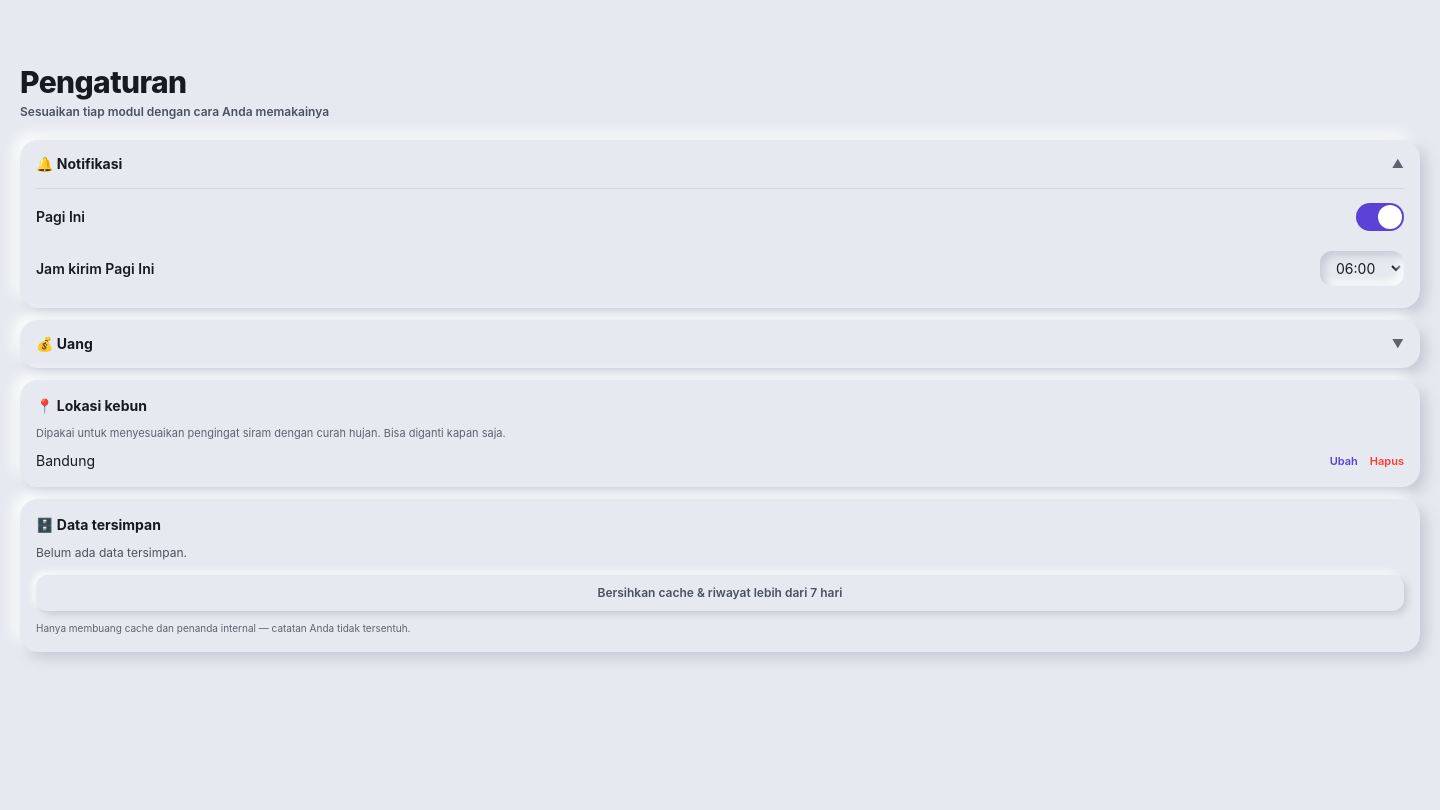
Test case: Pengaturan › menampilkan lokasi kebun dan membuka ulang pemilih lewat "Ubah"
Expected: the text "Bandung" is shown, [36,451,95,471]
Click the button "Ubah" at (1344, 461), box [1330,453,1358,469]
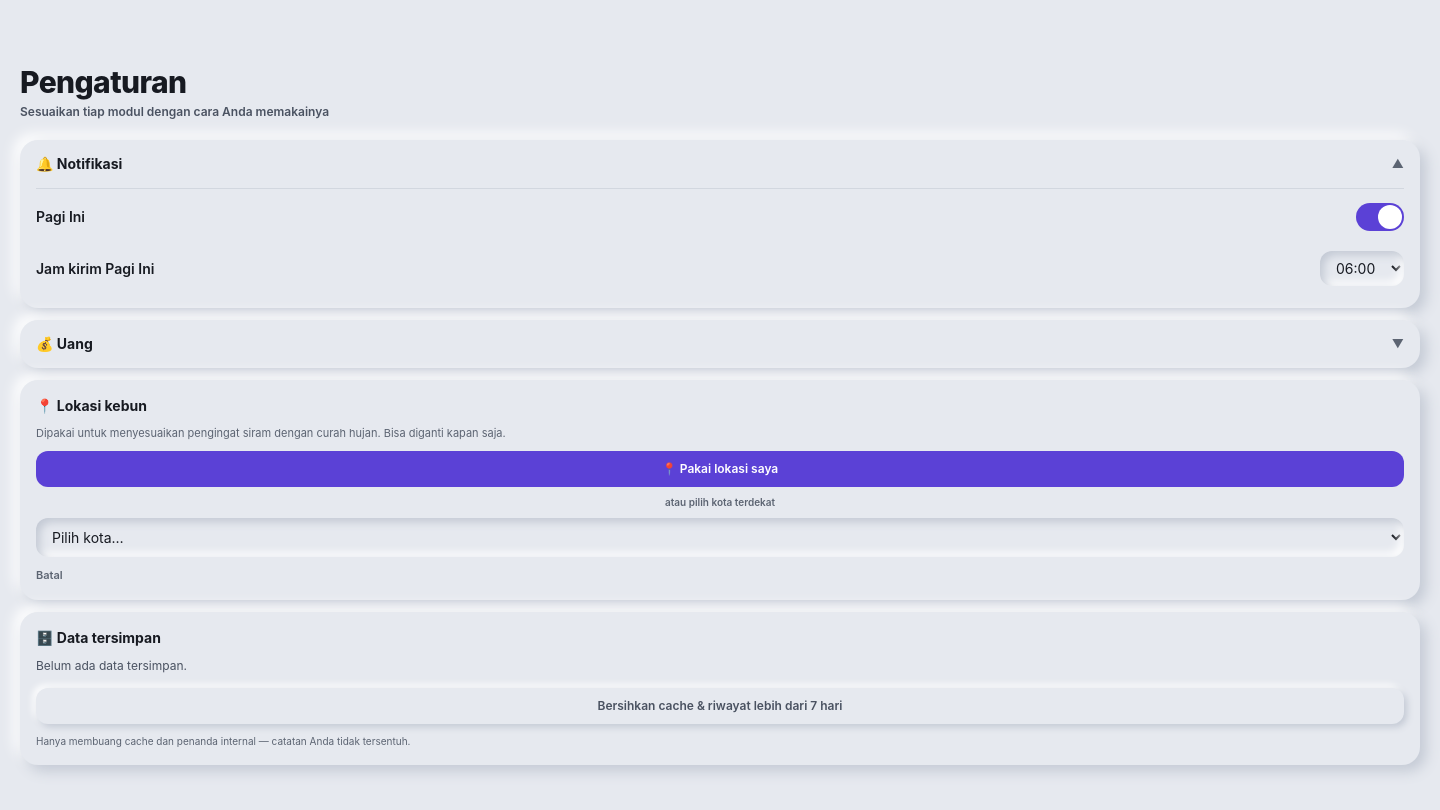
Expected: the text "atau pilih kota terdekat" is shown, [665,496,775,508]
